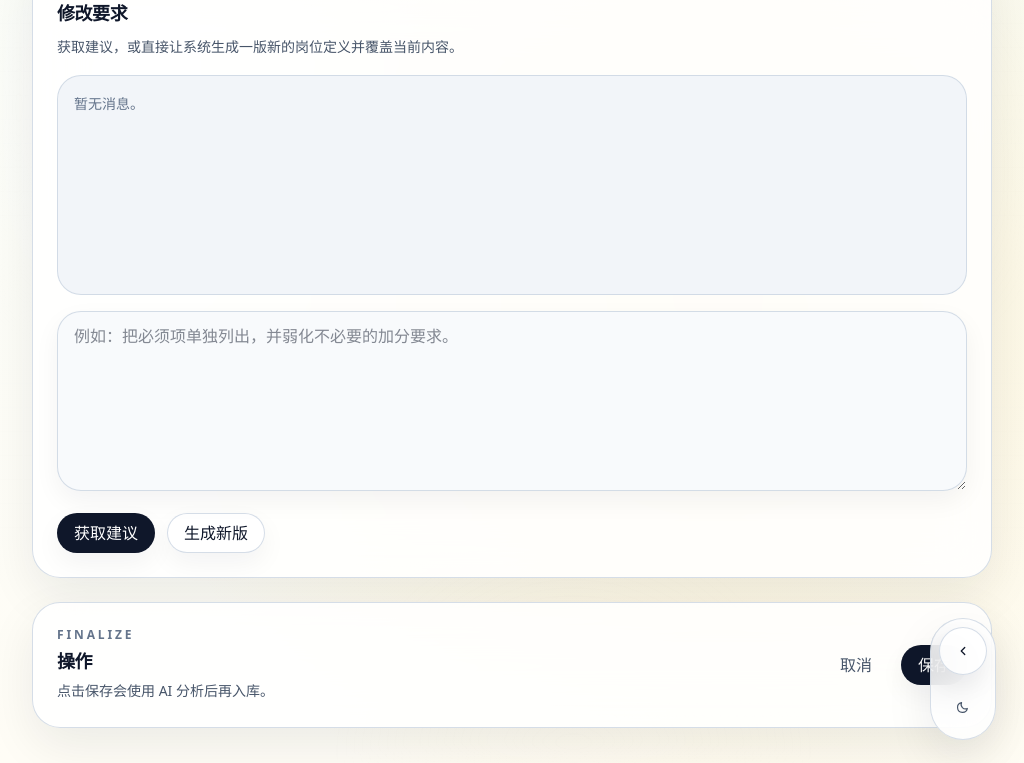
Job edit workspace › applies returned content after agent edit
(page scrolled)
In the text box named "修改要求输入框": (512, 401) 57,311 -> 967,491, type "直接修改"
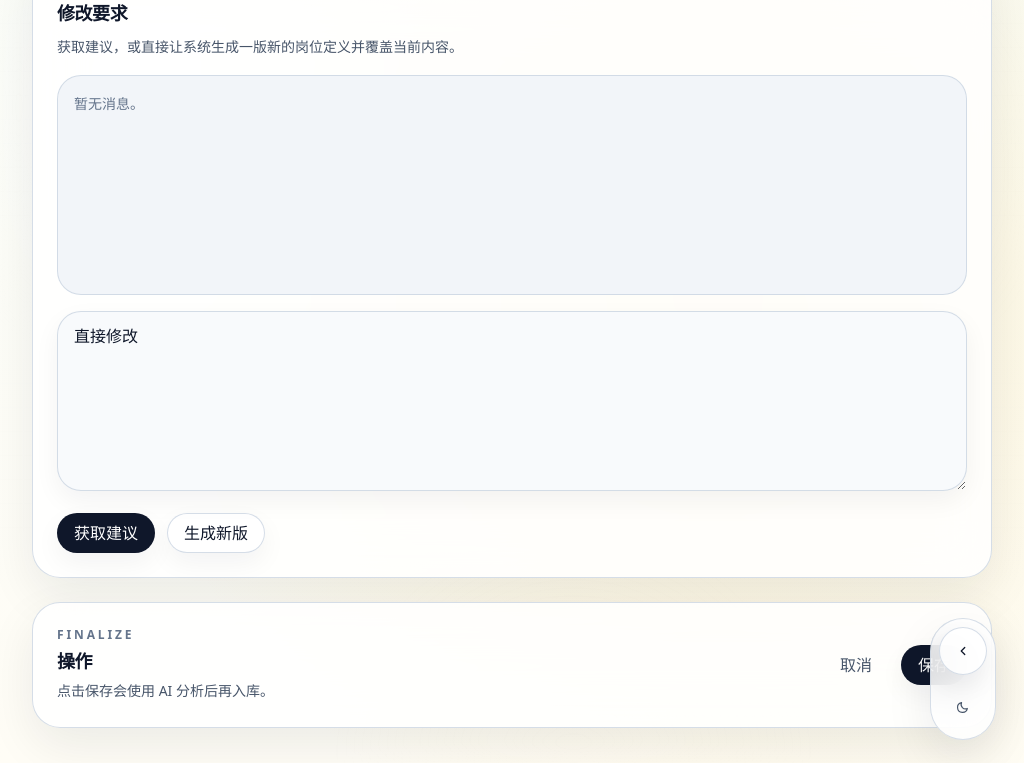
Click the button "生成新版": click(216, 533) 167,513 -> 265,553
(page scrolled)
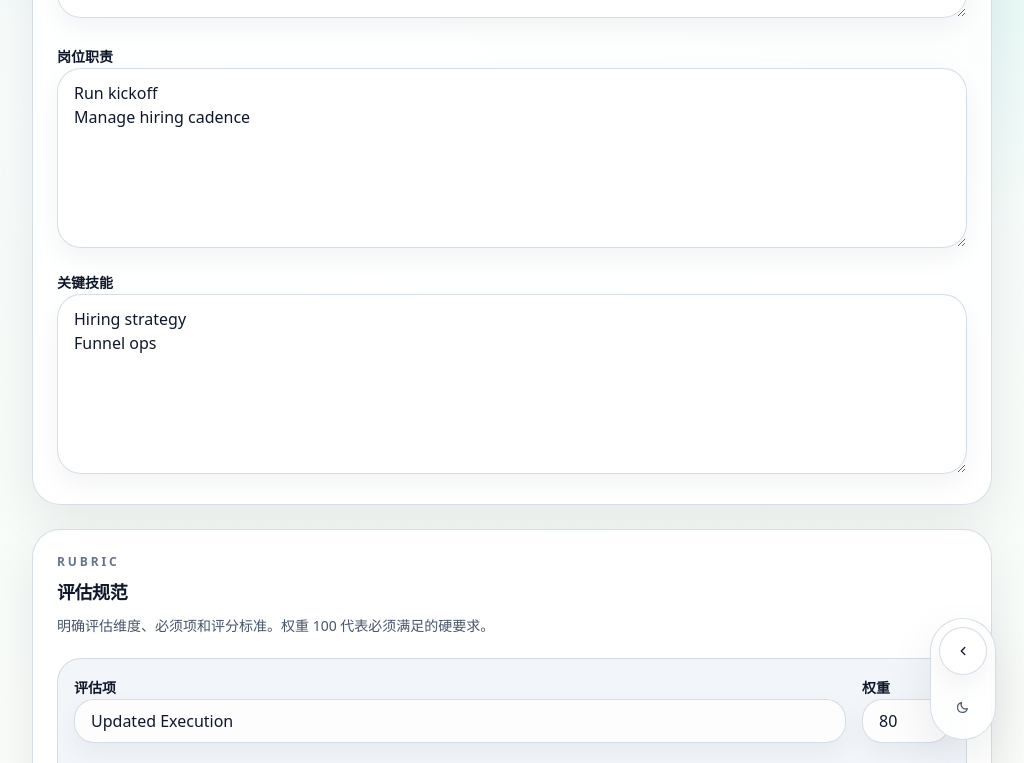
Check: the field showing "Updated Execution" is shown, box 74,699 -> 846,743
